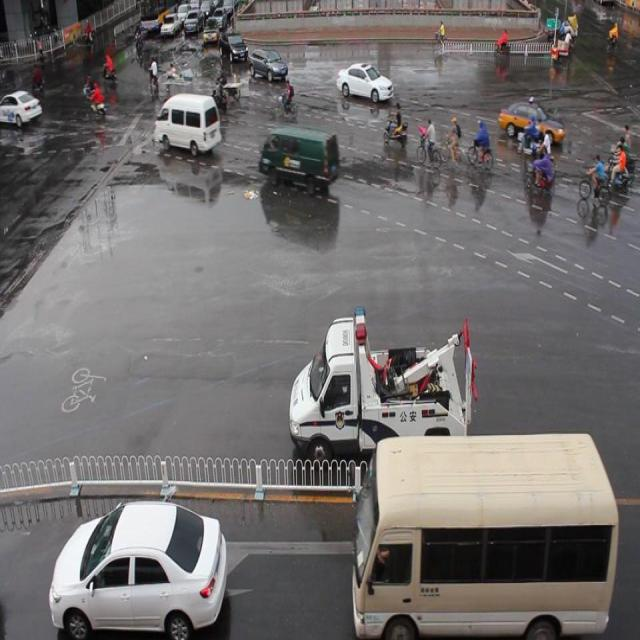bus: (287, 302, 476, 468)
car: (48, 494, 228, 640), (496, 94, 562, 146), (335, 61, 392, 106), (248, 47, 289, 83), (218, 26, 249, 64)
truck: (350, 432, 616, 640), (256, 125, 341, 196), (154, 91, 221, 159)
